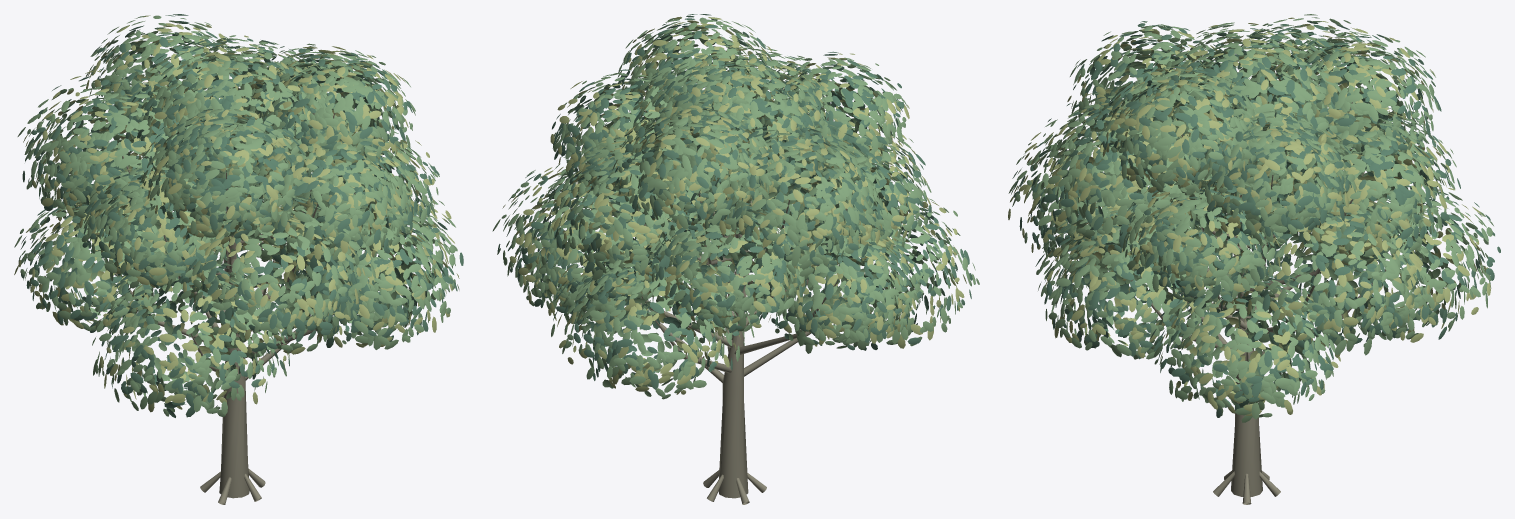
File: study_canopy_1.glb
The picture shows the model from 3 angles, left to right: view 1: azimuth 30°, elevation 25°; view 2: azimuth 150°, elevation 25°; view 3: azimuth 270°, elevation 25°; orthographic projection. The views are drawn at different scales.
Visible parts, largest first — view 1: study_canopy_1_StudyLeafJade, study_canopy_1_StudyLeafDeep, study_canopy_1_StudyLeafGold, study_canopy_1_StudyBark; view 2: study_canopy_1_StudyLeafJade, study_canopy_1_StudyLeafDeep, study_canopy_1_StudyLeafGold, study_canopy_1_StudyBark; view 3: study_canopy_1_StudyLeafJade, study_canopy_1_StudyLeafDeep, study_canopy_1_StudyLeafGold, study_canopy_1_StudyBark.
Part boxes in pixels (<box>): study_canopy_1_StudyLeafJade: <box>14,15,459,416</box>; study_canopy_1_StudyLeafDeep: <box>18,14,463,417</box>; study_canopy_1_StudyLeafGold: <box>14,15,459,412</box>; study_canopy_1_StudyBark: <box>103,81,365,504</box>; study_canopy_1_StudyLeafJade: <box>492,17,979,399</box>; study_canopy_1_StudyLeafDeep: <box>497,14,972,389</box>; study_canopy_1_StudyLeafGold: <box>502,16,966,394</box>; study_canopy_1_StudyBark: <box>627,80,875,504</box>; study_canopy_1_StudyLeafJade: <box>1008,14,1494,422</box>; study_canopy_1_StudyLeafDeep: <box>1012,20,1500,417</box>; study_canopy_1_StudyLeafGold: <box>1008,17,1490,416</box>; study_canopy_1_StudyBark: <box>1131,102,1385,504</box>.
Size of the model in its own units: 9.71 by 10.03 by 9.8.
